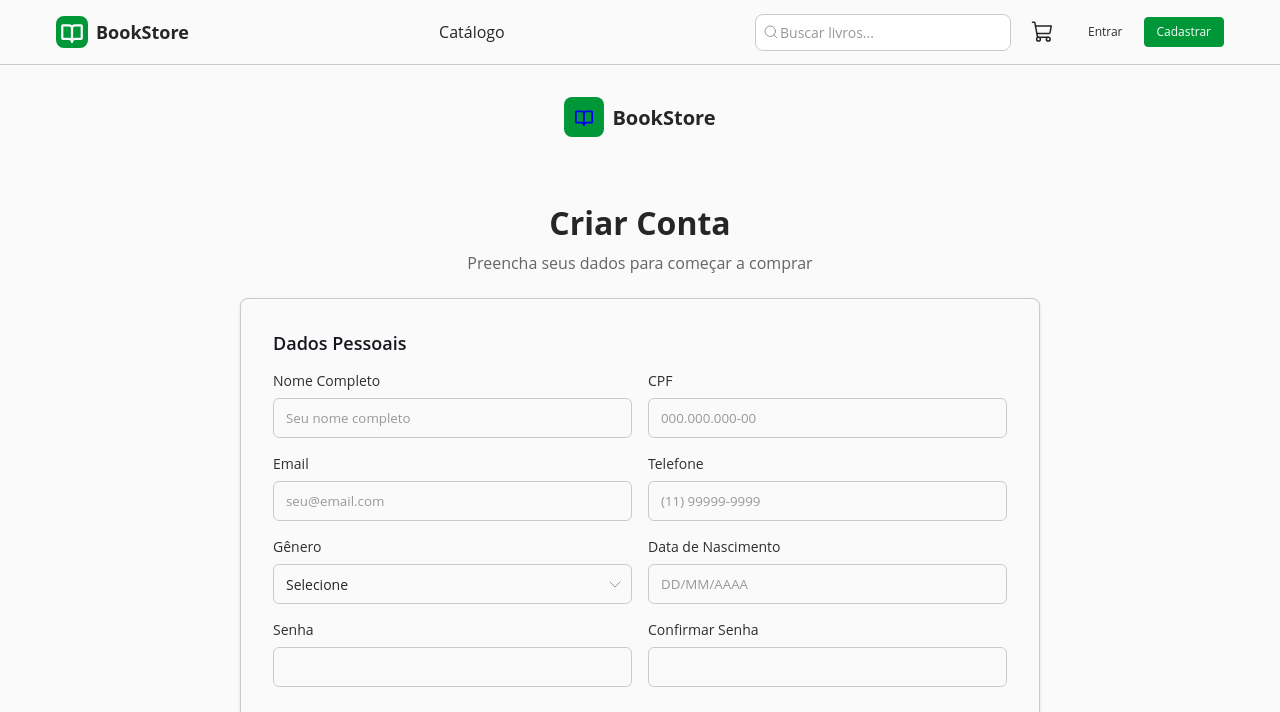
Test: Sign Up Form › Field Masking and Input Formatting › should apply phone mask while typing
In the field with test id "phone-input": x=828, y=501 [661,492,994,510], type "11999999999"
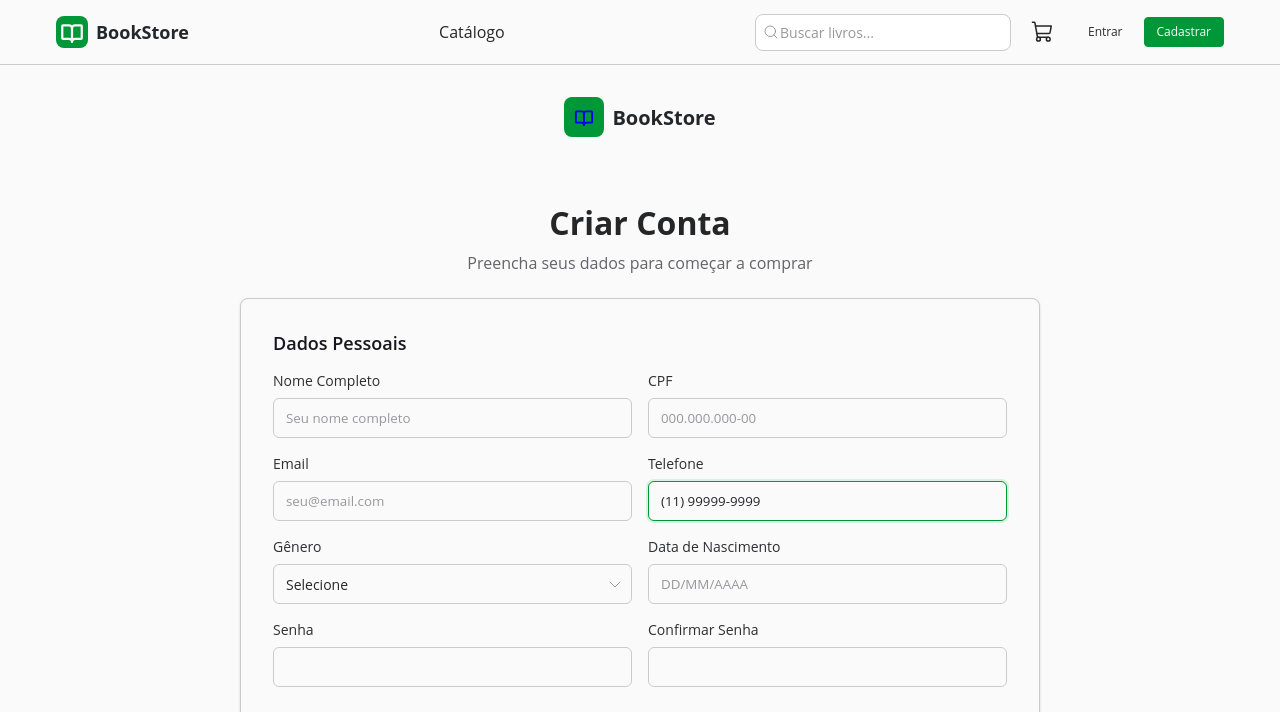
Result: the field with test id "phone-input" holds "(11) 99999-9999" at [661,492,994,510]
